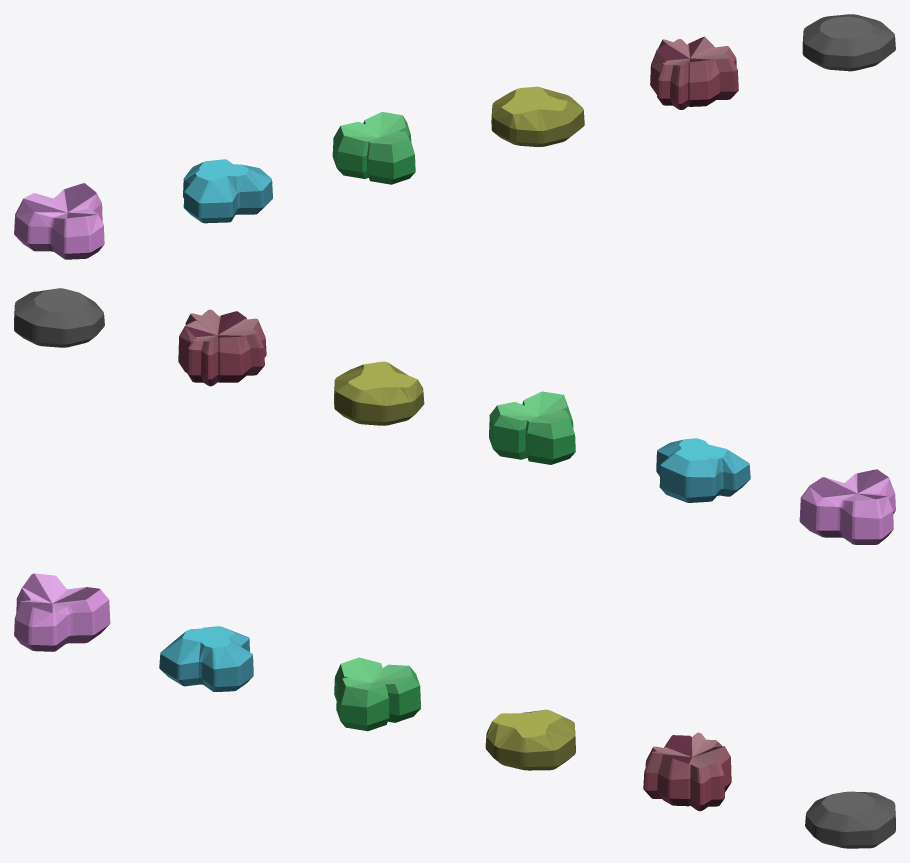
The model's file is depositos.fbx.
3 renders of one model, top to bottom at view 1: azimuth 30°, elevation 25°; view 2: azimuth 150°, elevation 25°; view 3: azimuth 330°, elevation 25°, orthographic. The views are drawn at different scales.
Visible parts, largest first — view 1: amethyst_deposit_icon_body, reidite_deposit_icon_body, emerald_deposit_icon_body, diamond_deposit_icon_body, gold_deposit_icon_body, stone_deposit_icon_body; view 2: amethyst_deposit_icon_body, reidite_deposit_icon_body, emerald_deposit_icon_body, diamond_deposit_icon_body, gold_deposit_icon_body, stone_deposit_icon_body; view 3: amethyst_deposit_icon_body, reidite_deposit_icon_body, emerald_deposit_icon_body, diamond_deposit_icon_body, gold_deposit_icon_body, stone_deposit_icon_body.
Boxes of the visible parts, <box> form: amethyst_deposit_icon_body: <box>14,183,104,259</box>; reidite_deposit_icon_body: <box>650,36,738,109</box>; emerald_deposit_icon_body: <box>332,112,415,184</box>; diamond_deposit_icon_body: <box>183,159,272,223</box>; gold_deposit_icon_body: <box>491,86,584,146</box>; stone_deposit_icon_body: <box>802,14,895,71</box>; amethyst_deposit_icon_body: <box>799,469,895,544</box>; reidite_deposit_icon_body: <box>178,309,266,386</box>; emerald_deposit_icon_body: <box>489,391,575,464</box>; diamond_deposit_icon_body: <box>656,438,750,502</box>; gold_deposit_icon_body: <box>334,361,424,425</box>; stone_deposit_icon_body: <box>14,288,104,347</box>; amethyst_deposit_icon_body: <box>14,573,110,651</box>; reidite_deposit_icon_body: <box>643,732,731,811</box>; emerald_deposit_icon_body: <box>334,657,420,731</box>; diamond_deposit_icon_body: <box>159,626,253,691</box>; gold_deposit_icon_body: <box>485,709,575,770</box>; stone_deposit_icon_body: <box>805,791,895,848</box>.
Bounding box in the file's own units: 44 × 2.25 × 4.05.
1 material, 1 textured.
